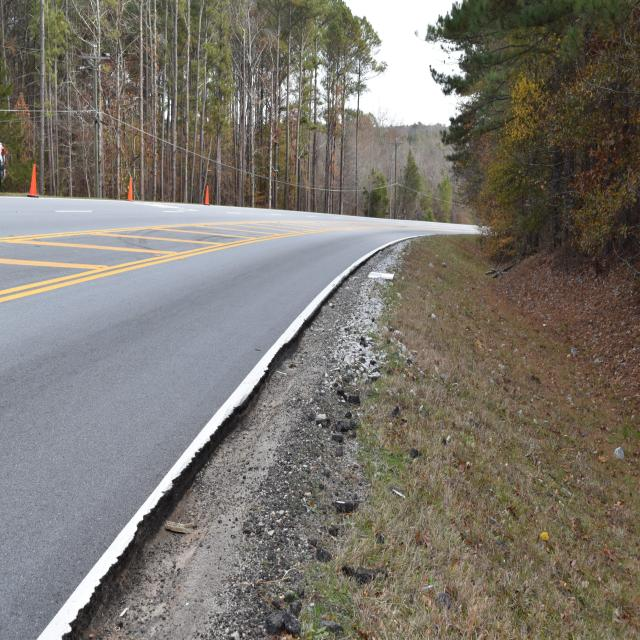Pothole: (38, 210, 467, 601)
